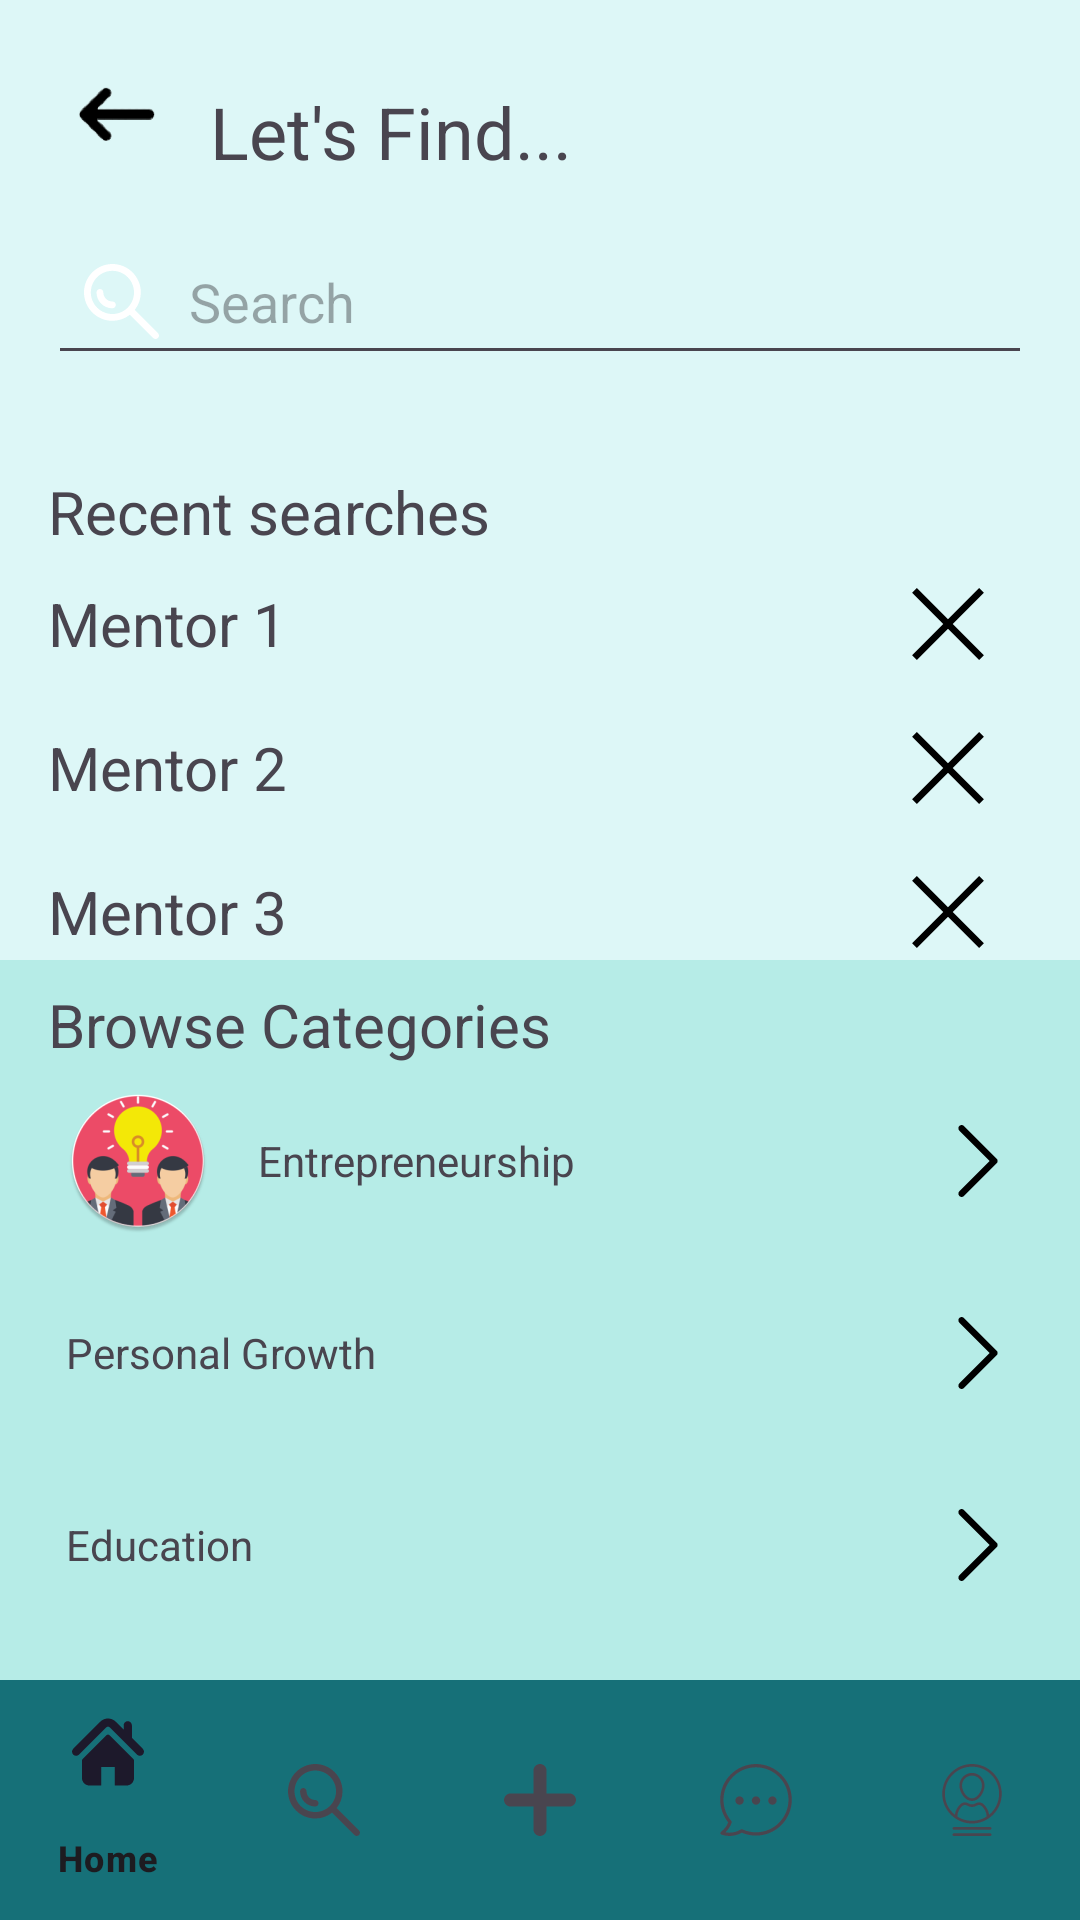

Icons on this 1080px x 1920px Android screen, each with the point to tap as (x=x, y=y):
arrow: (x=117, y=114)
